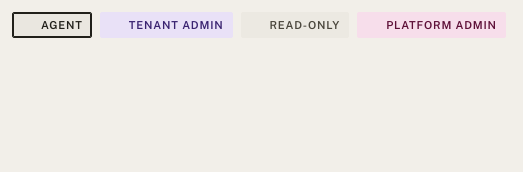
Test case: RoleSwitcher › surfaces an error and re-enables the chips when the switch fails
Click the button "Tenant Admin" at {"x": 166, "y": 25}, box 100,12 -> 232,38
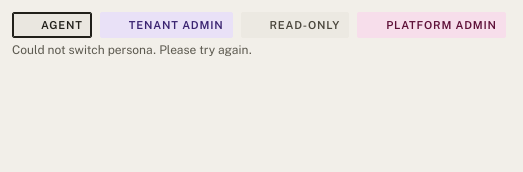
Expected: the text "Could not switch persona. Please try again." is shown, 12,43 -> 252,57
